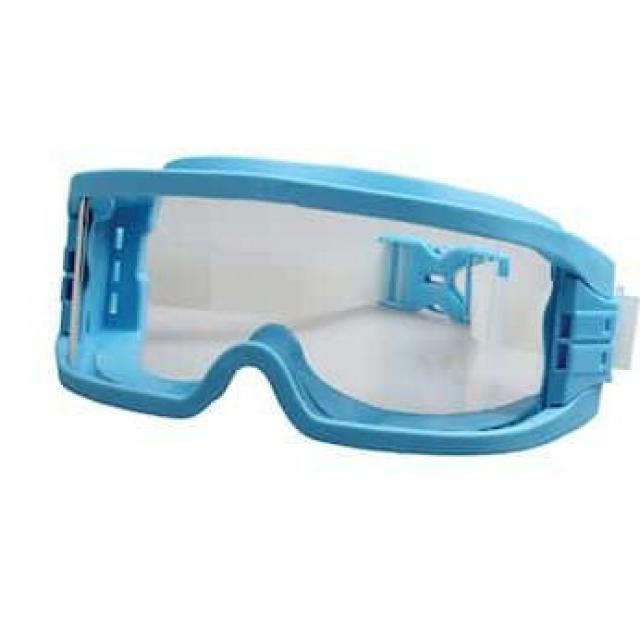Goggles: (35, 134, 640, 480)
